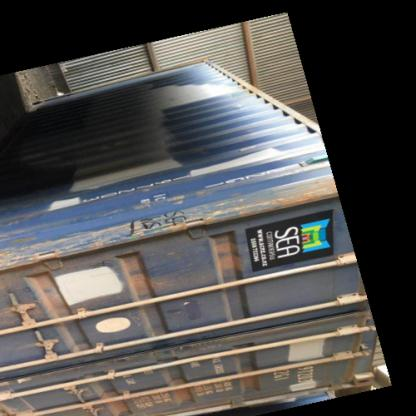Damage: (30, 260, 78, 320), (124, 211, 198, 240), (117, 251, 157, 303), (274, 187, 336, 218), (213, 230, 249, 278), (229, 89, 253, 117)
